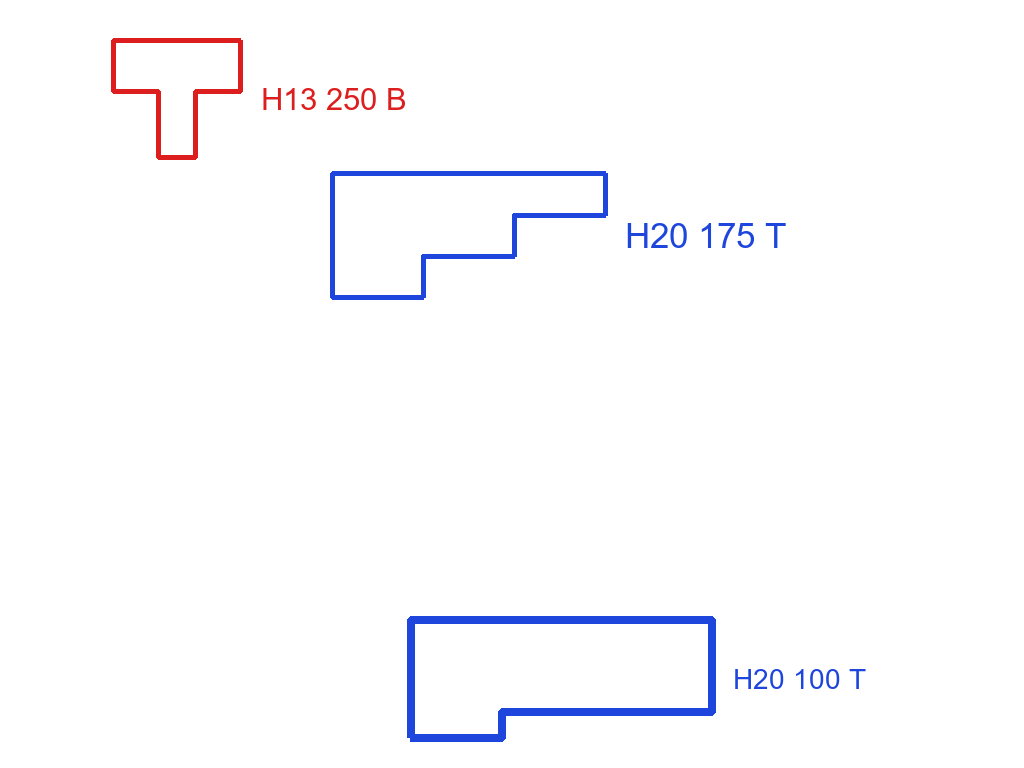shape: (405, 614, 719, 744), (328, 169, 610, 302), (109, 36, 245, 162)
text: (623, 221, 788, 250), (259, 86, 409, 112), (731, 667, 868, 691)
